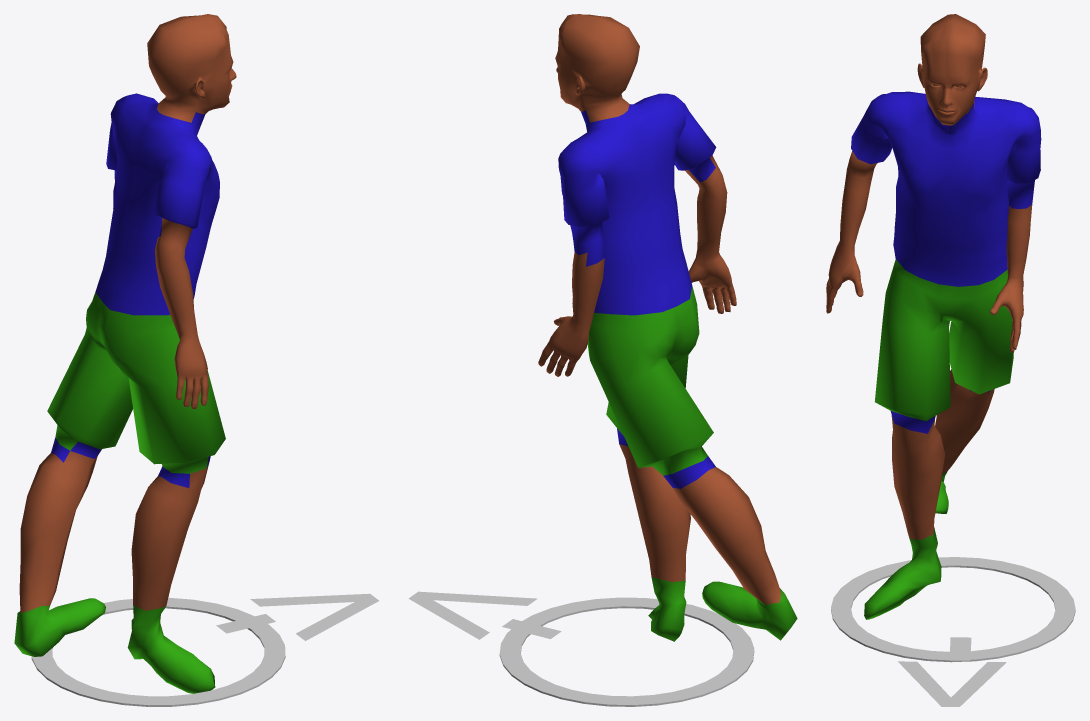
Rendered from playerAI_000023.obj.
The picture shows the model from 3 angles, left to right: view 1: azimuth 30°, elevation 25°; view 2: azimuth 150°, elevation 25°; view 3: azimuth 270°, elevation 25°; orthographic projection. The views are drawn at different scales.
Visible parts, largest first — view 1: soccerplayer.003_mesh.002, Circle.001, Text_Mesh; view 2: soccerplayer.003_mesh.002, Circle.001, Text_Mesh; view 3: soccerplayer.003_mesh.002, Circle.001, Text_Mesh.
Boxes of the visible parts, box(x1,y1,x2,y2) form: soccerplayer.003_mesh.002: box(14, 14, 236, 693); Circle.001: box(31, 597, 285, 706); Text_Mesh: box(216, 593, 379, 640); soccerplayer.003_mesh.002: box(538, 14, 797, 641); Circle.001: box(499, 597, 754, 706); Text_Mesh: box(408, 591, 561, 639); soccerplayer.003_mesh.002: box(826, 14, 1041, 619); Circle.001: box(831, 557, 1075, 662); Text_Mesh: box(898, 637, 1006, 706).
Size of the model in its own units: 1.81 by 3 by 1.11.
